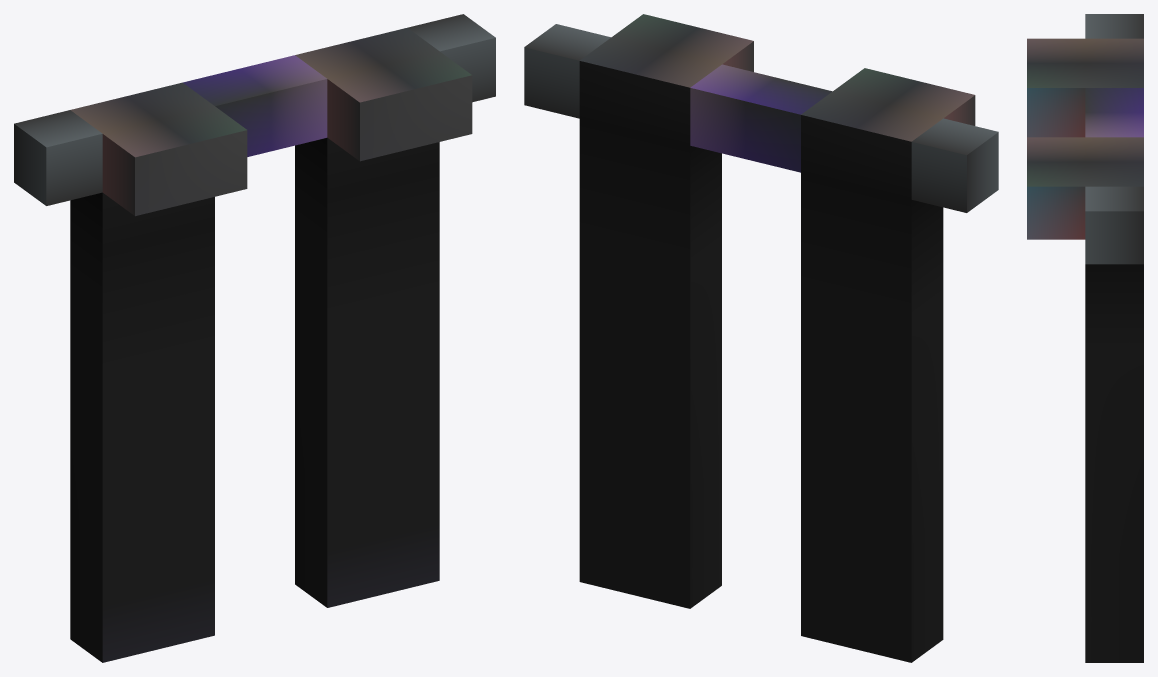
Rendered from Cable_T_00.fbx.
3 renders of one model, left to right at view 1: azimuth 30°, elevation 25°; view 2: azimuth 150°, elevation 25°; view 3: azimuth 270°, elevation 25°, orthographic. The views are drawn at different scales.
Parts seen in each view (by area): view 1: Cable_T_00; view 2: Cable_T_00; view 3: Cable_T_00.
Boxes of the visible parts, x1=… form: Cable_T_00: x1=14, y1=14, x2=495, y2=662; Cable_T_00: x1=524, y1=14, x2=998, y2=662; Cable_T_00: x1=1027, y1=14, x2=1143, y2=662.
Size of the model in its own units: 40 by 45 by 10.
